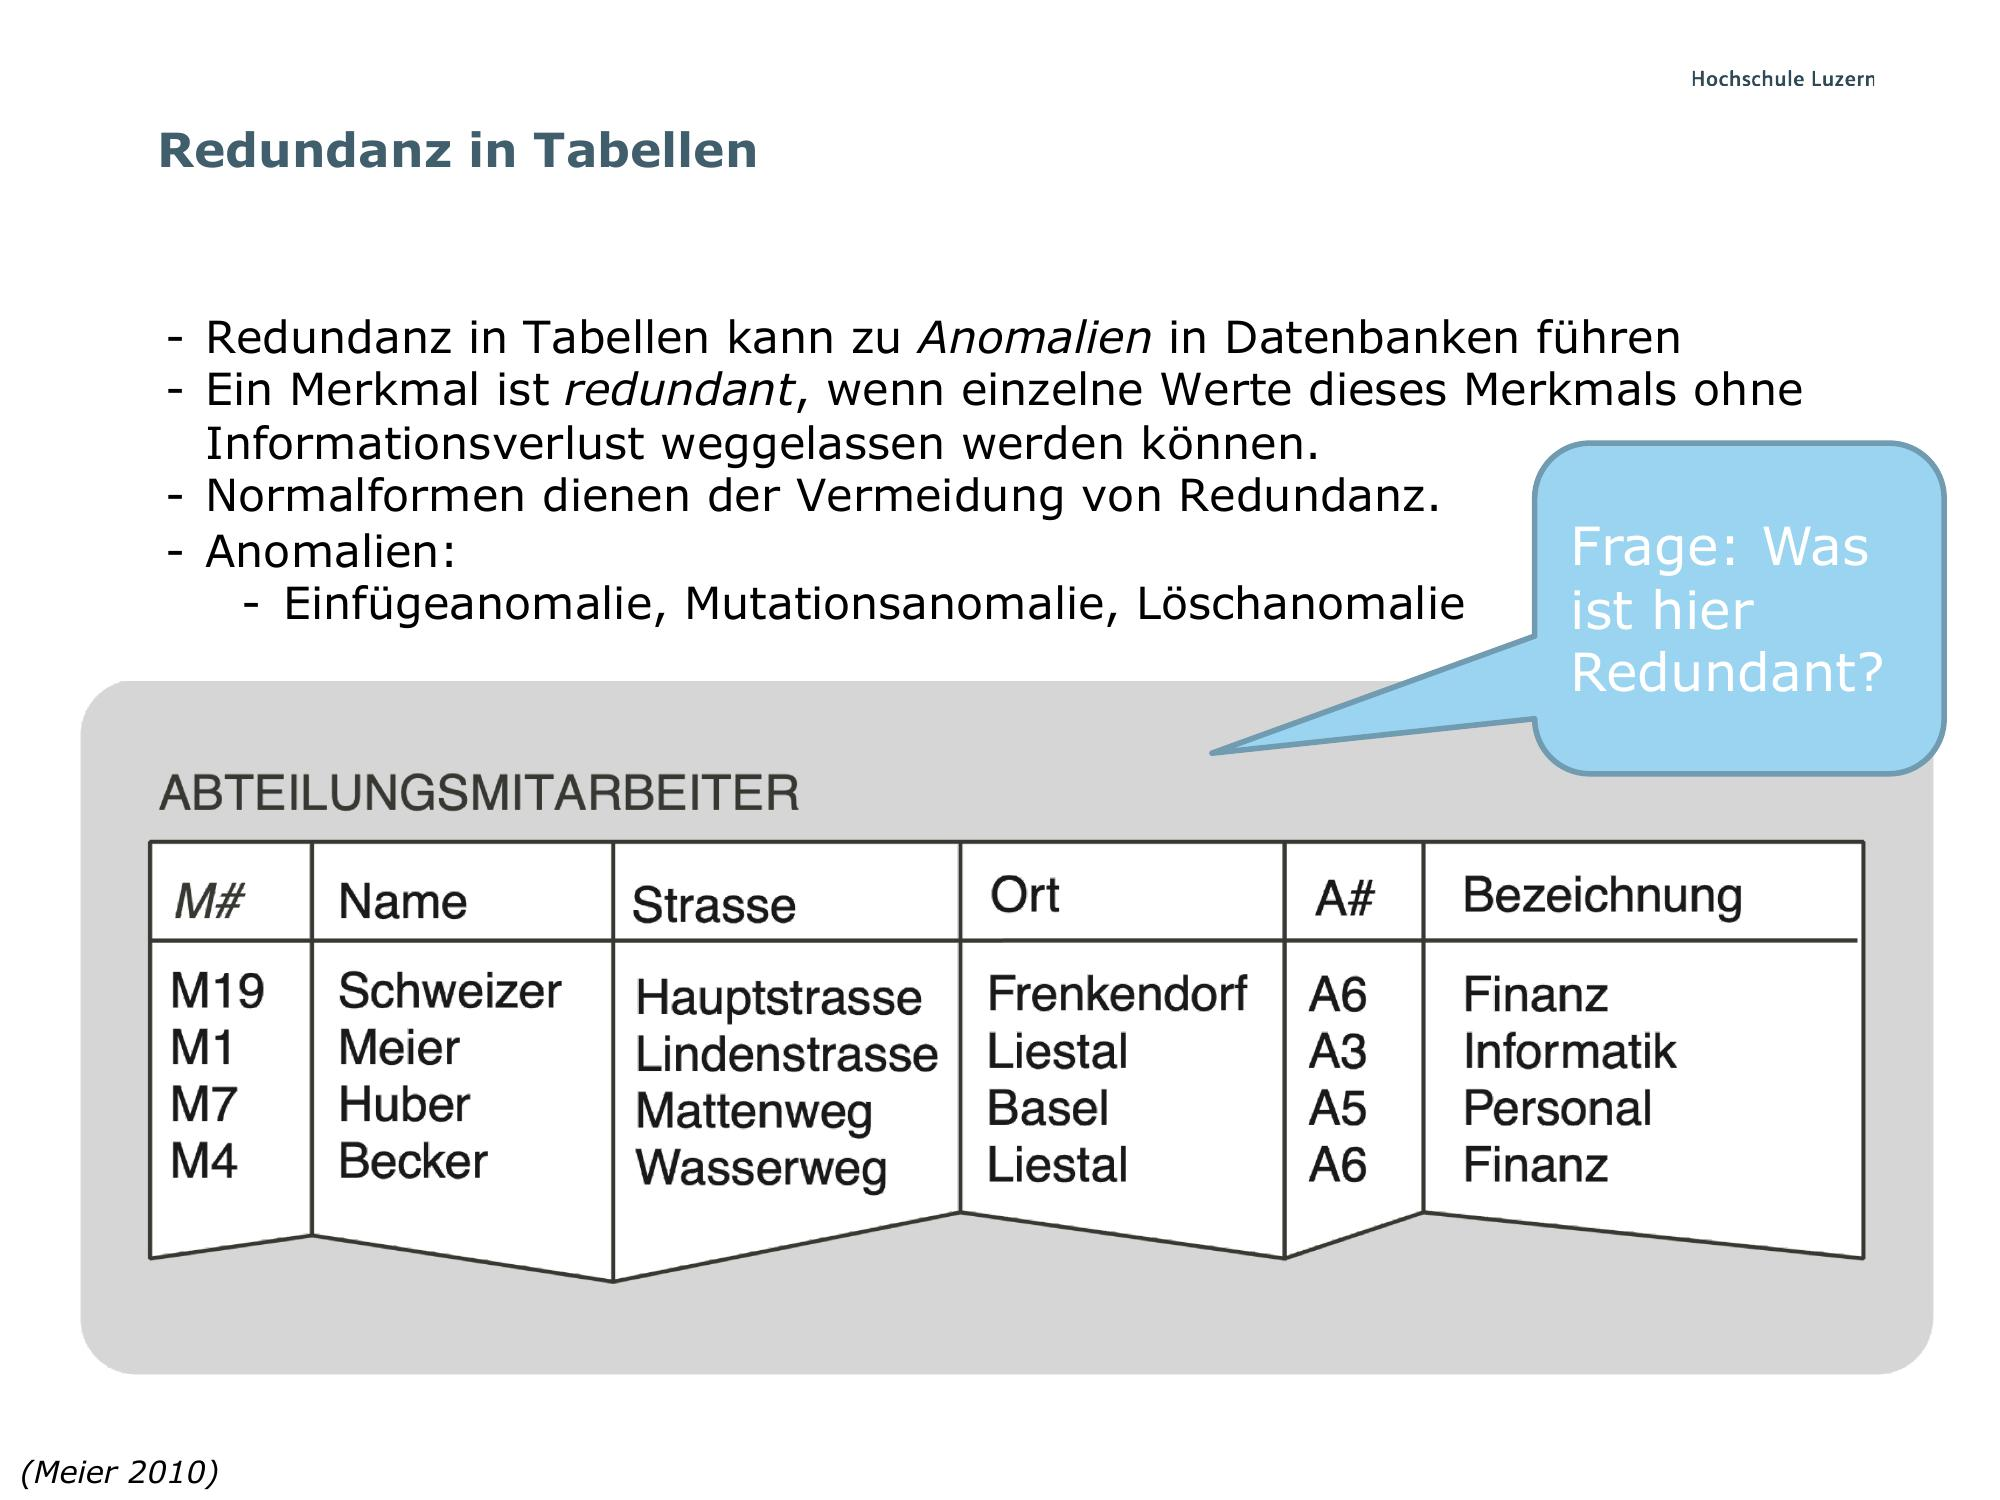Title: (143, 110, 769, 184)
